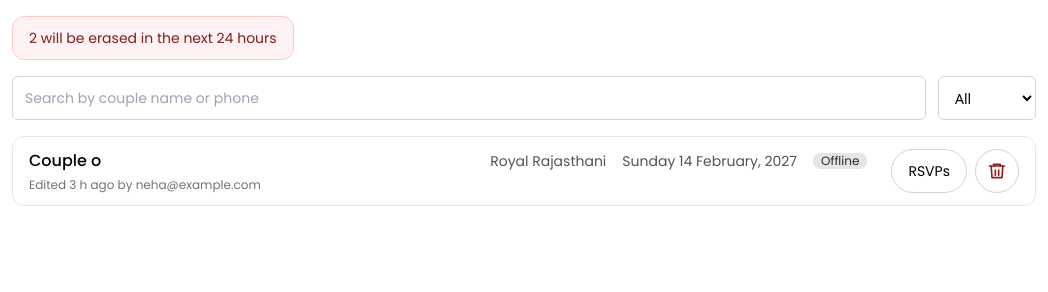
Test: InvitationList › lifecycle › notices invitations erased within a day, linking to Deleted when any of them is deleted
This screenshot has width=1048, height=292.
Click the button "2 will be erased in the next 24 hours": {"x": 153, "y": 38} [12,16,294,60]
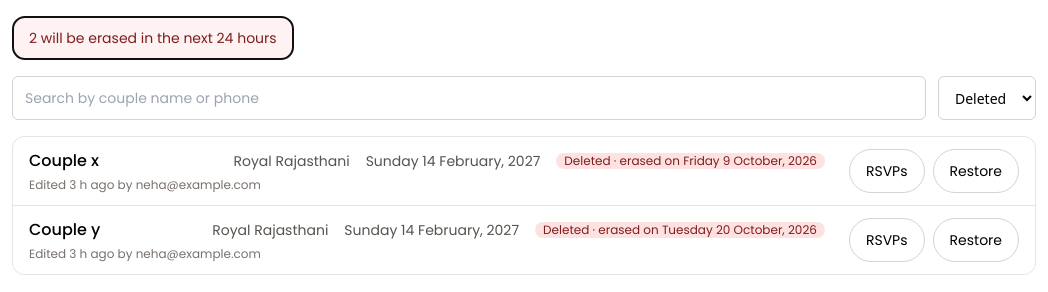
Now the dropdown named "Status" shows "Deleted", box [938,76,1036,120]
